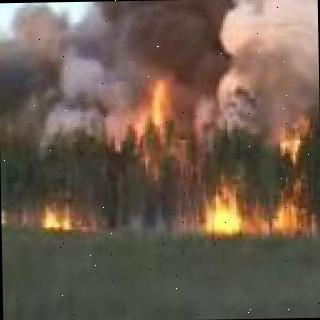fire: (199, 115, 320, 237), (146, 60, 171, 147), (38, 200, 78, 232)
